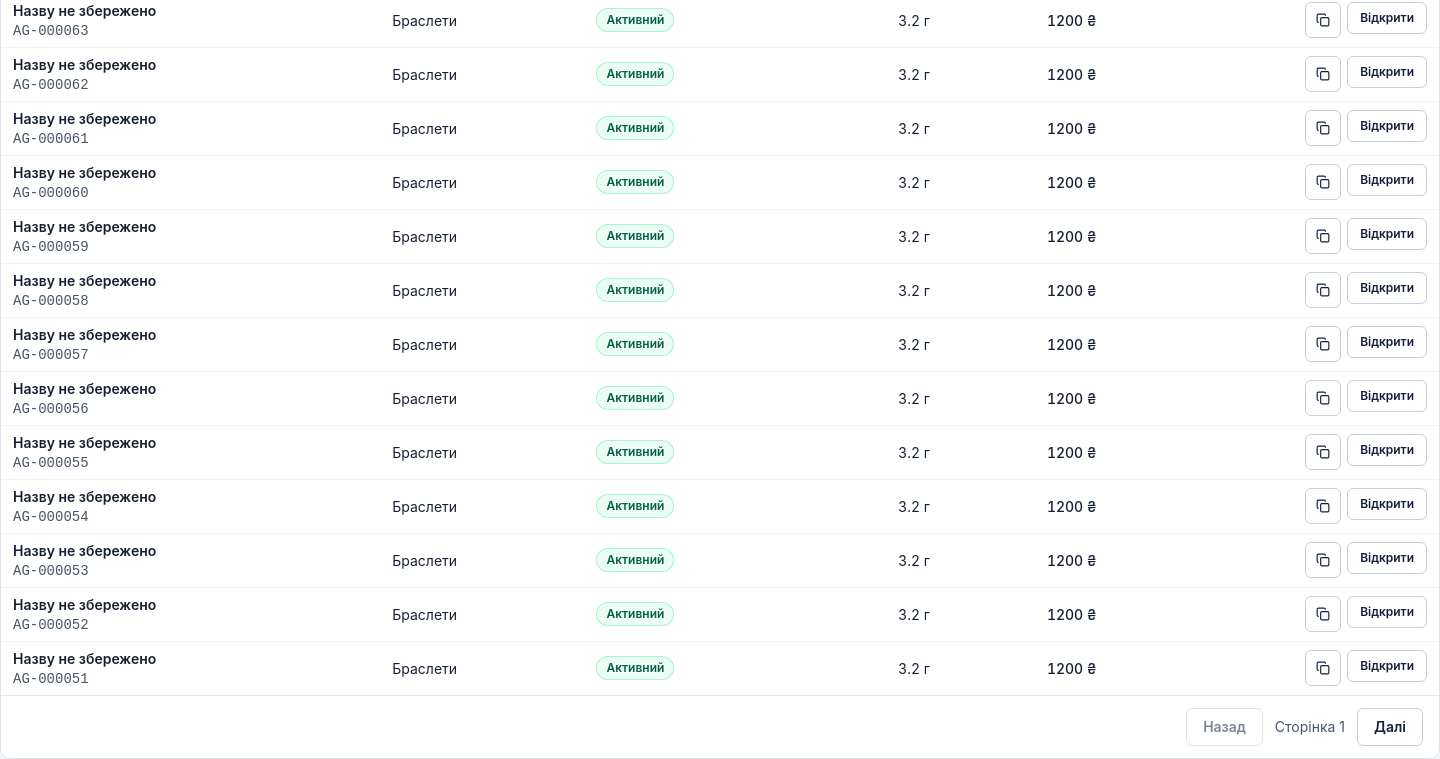
Test: keeps one bounded page in the DOM while moving through keyset results
The width and height of the screenshot is (1440, 759).
(page scrolled)
Click the button "Далі" at {"x": 1390, "y": 726}, box [1357, 708, 1423, 746]
(page scrolled)
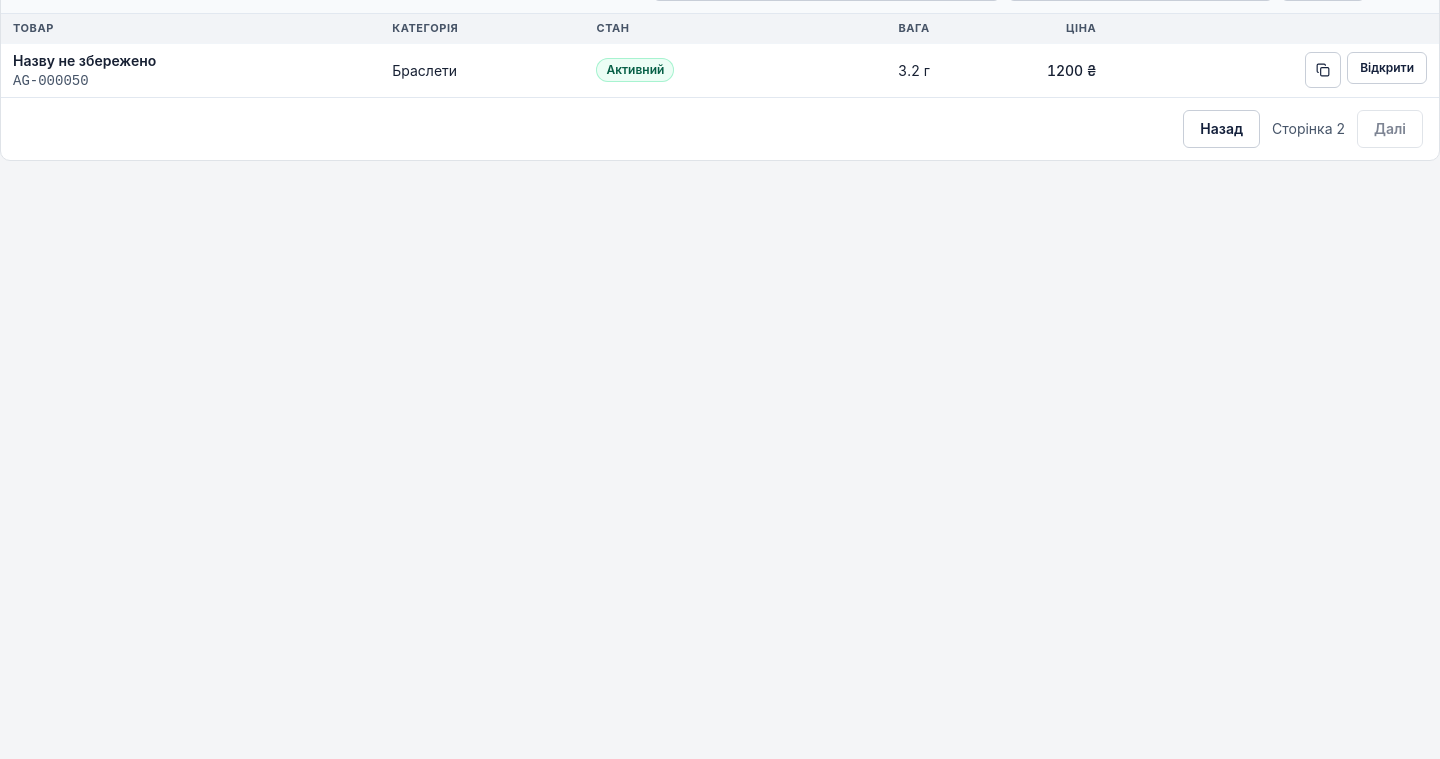
Expected: the number of rows is 2, [1, 14, 1439, 42]; [1, 43, 1439, 96]
Now the text "AG-000050" is shown, box [13, 72, 89, 88]
